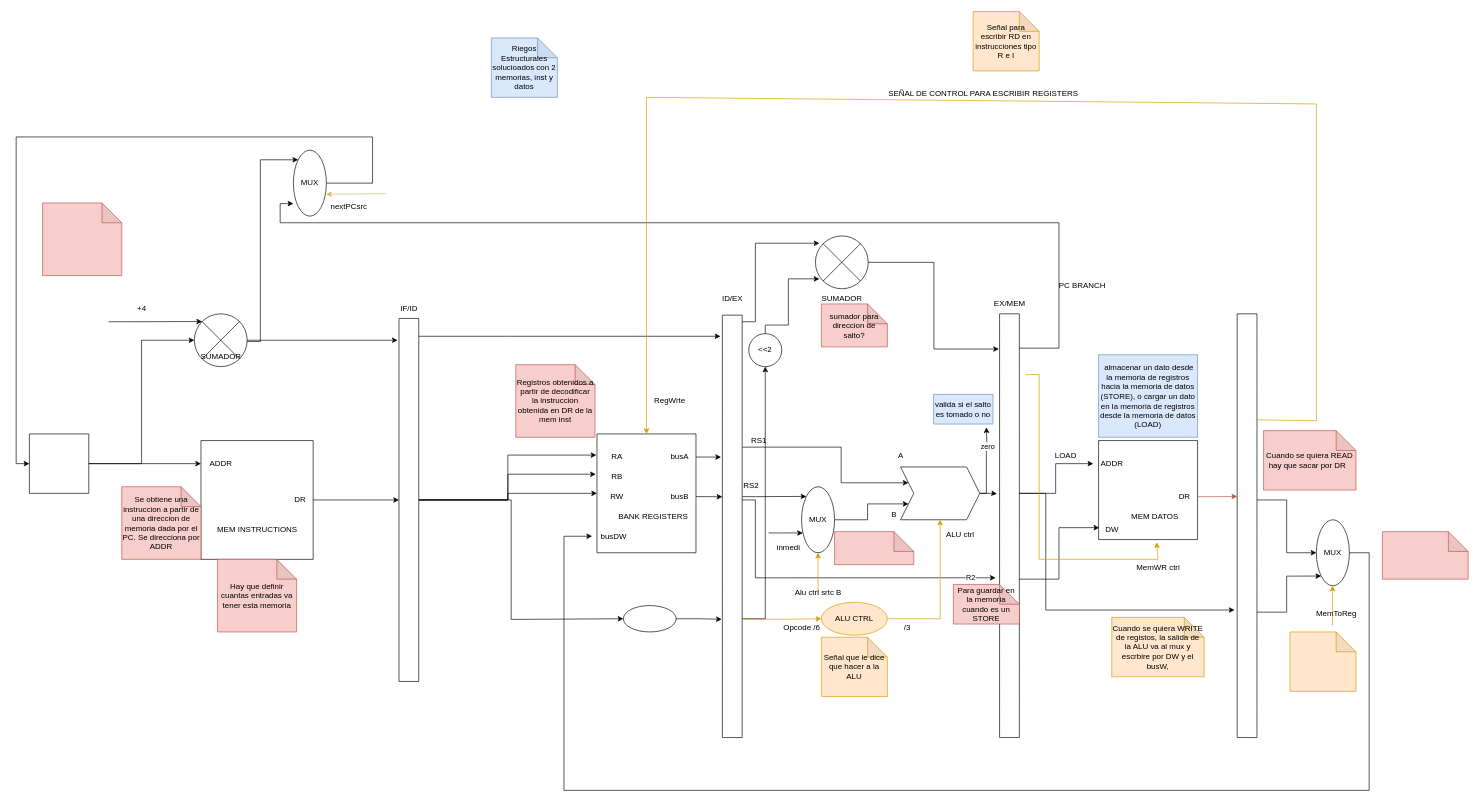
The diagram is 1480 pixels wide and 807 high, and some of its shapes have lost their labels. The shapes that lost their labels are listed below. From the top down, each one's box as (x1, y1, x2, y2) in pixels, then its label:
(29, 433, 89, 493): PC
(900, 466, 980, 520): ALU
(834, 531, 914, 565): Para la inst tipo R o si es un inmediato por el extesion de signo
(1382, 531, 1468, 579): Este MUX ve si el dato a RD es por un LOAD o por una tipo R o I
(623, 605, 676, 632): Extencion Signo
(1289, 631, 1356, 691): Señal para esrcibir resultado de ALU o LOAD
